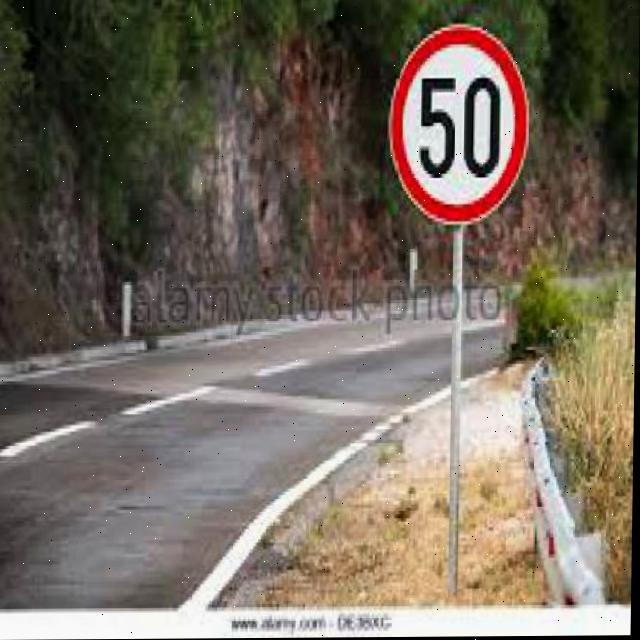Speed limit 50: (385, 22, 534, 229)
